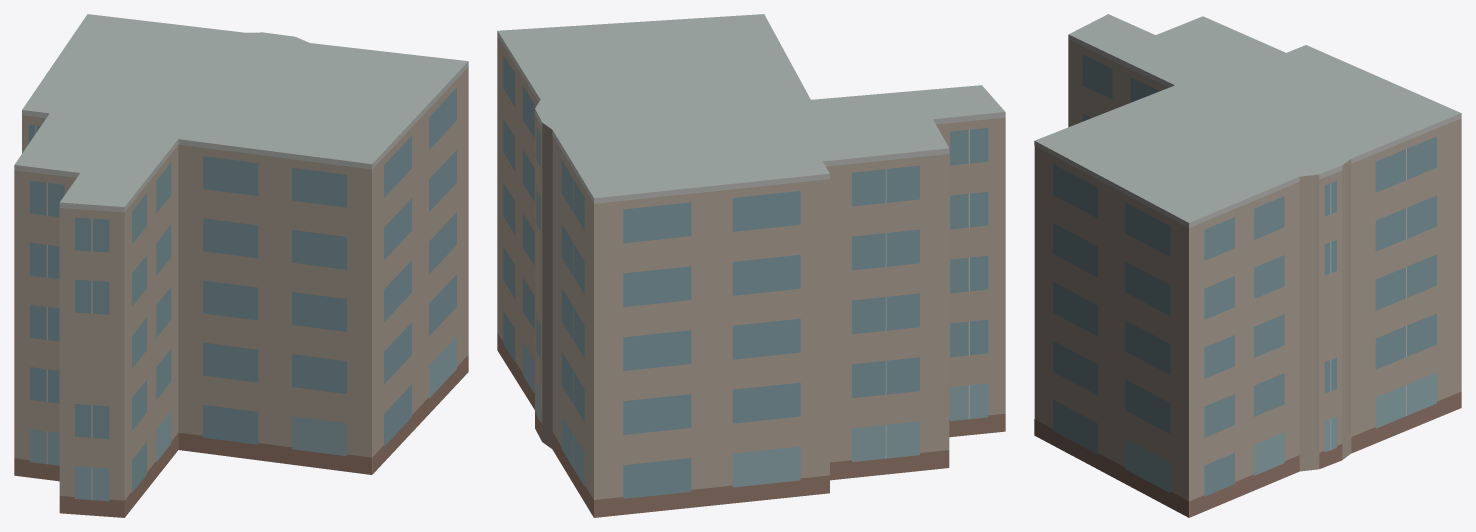
File: survey-upis-32642046.glb
3 renders of one model, left to right at view 1: azimuth 30°, elevation 25°; view 2: azimuth 150°, elevation 25°; view 3: azimuth 270°, elevation 25°, orthographic. The views are drawn at different scales.
Parts seen in each view (by area): view 1: survey-upis-32642046.tmp; view 2: survey-upis-32642046.tmp; view 3: survey-upis-32642046.tmp.
Boxes of the visible parts, box(x1,y1,x2,y2) form: survey-upis-32642046.tmp: box(14, 14, 468, 517); survey-upis-32642046.tmp: box(497, 14, 1005, 517); survey-upis-32642046.tmp: box(1034, 14, 1461, 517).
Size of the model in its own units: 21.45 by 14.1 by 18.52.
